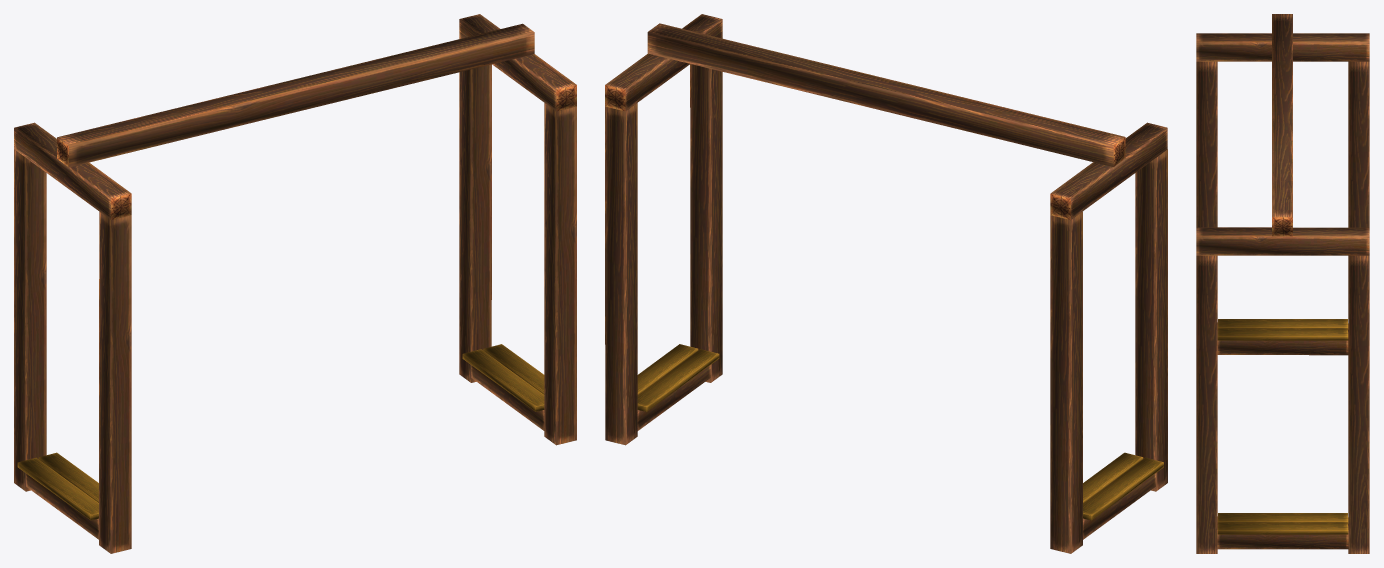
Rendered from INST_HTOWN_PLAYSWING.fbx.
3 views of the same model, side by side, from view 1: azimuth 30°, elevation 25°; view 2: azimuth 150°, elevation 25°; view 3: azimuth 270°, elevation 25° (orthographic). The views are drawn at different scales.
Parts seen in each view (by area): view 1: INST_HTOWN_PLAYSWING; view 2: INST_HTOWN_PLAYSWING; view 3: INST_HTOWN_PLAYSWING.
Boxes of the visible parts, left/top/right/bottom form: INST_HTOWN_PLAYSWING: left=14, top=14, right=576, bottom=553; INST_HTOWN_PLAYSWING: left=605, top=14, right=1167, bottom=553; INST_HTOWN_PLAYSWING: left=1196, top=14, right=1369, bottom=553.
Size of the model in its own units: 72733 by 54055 by 25189.
Materials: 2 (2 with a texture image).
